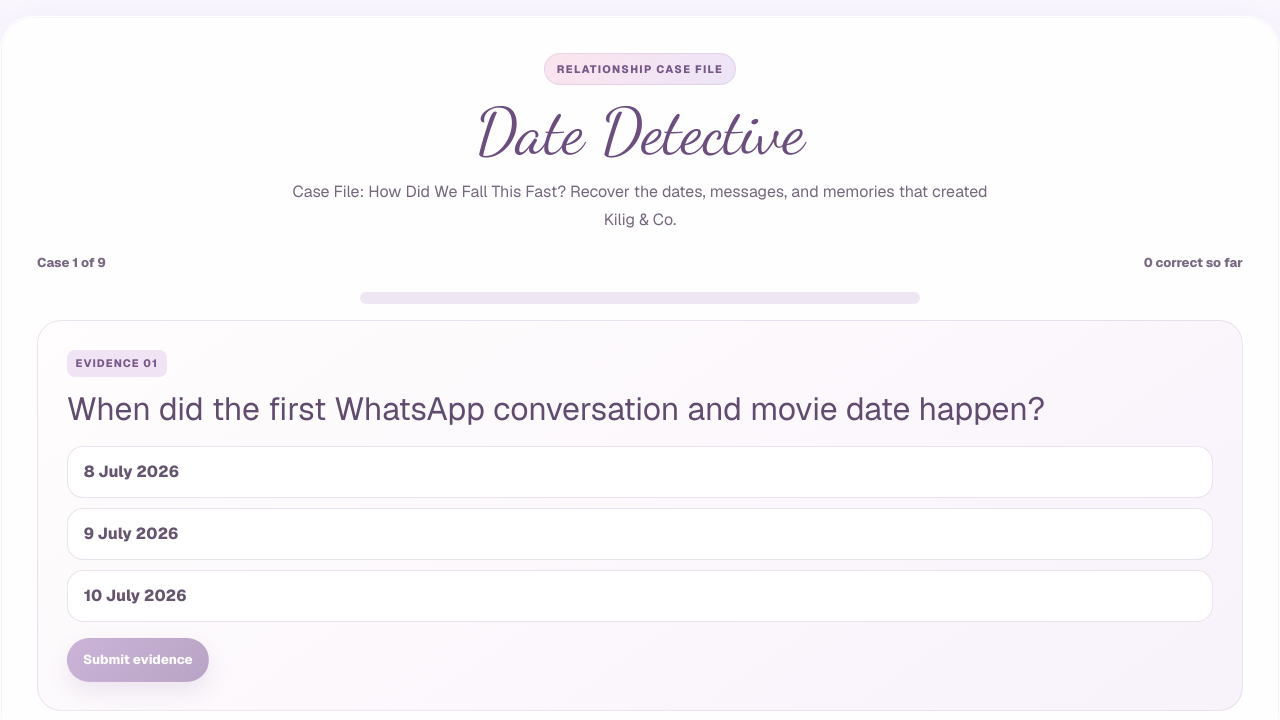
Scenario: critical memory game interactions › locks a submitted Date Detective answer and reveals its memory
Click the radio button labelled "9 July 2026": (131, 533) [67,508,1213,560]
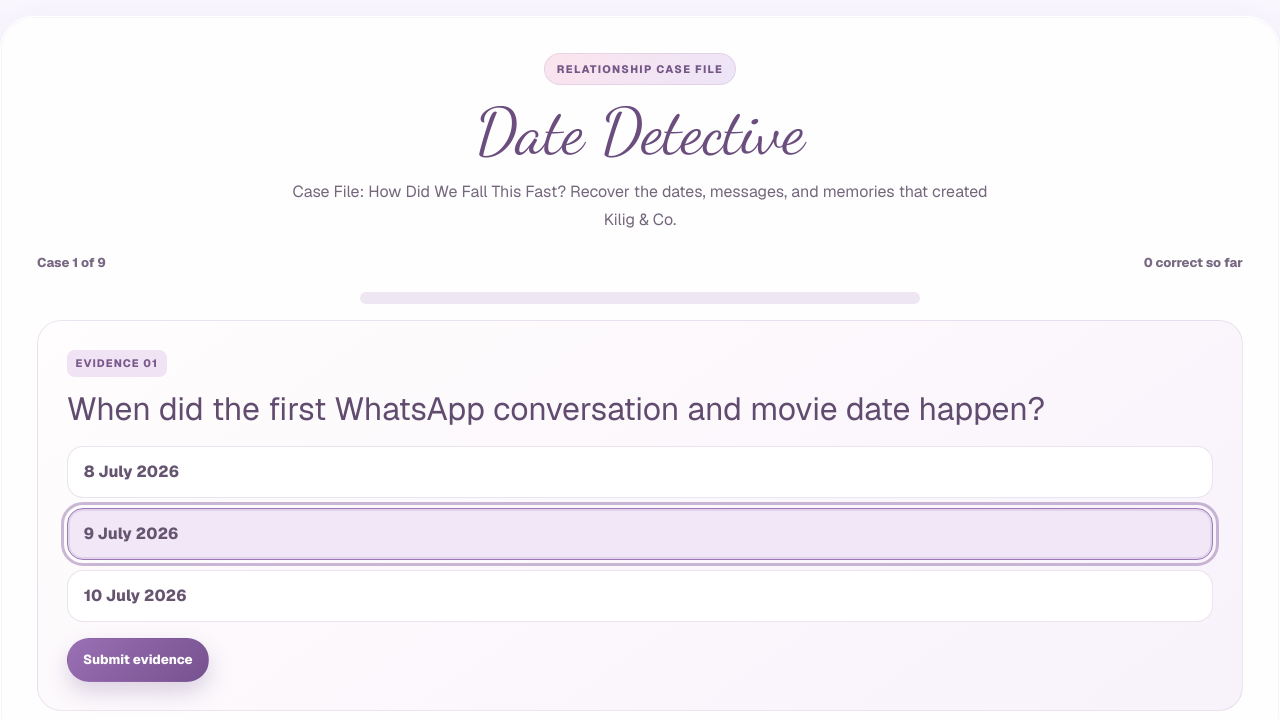
Click the button "Submit evidence": (138, 660) [67,638,209,682]
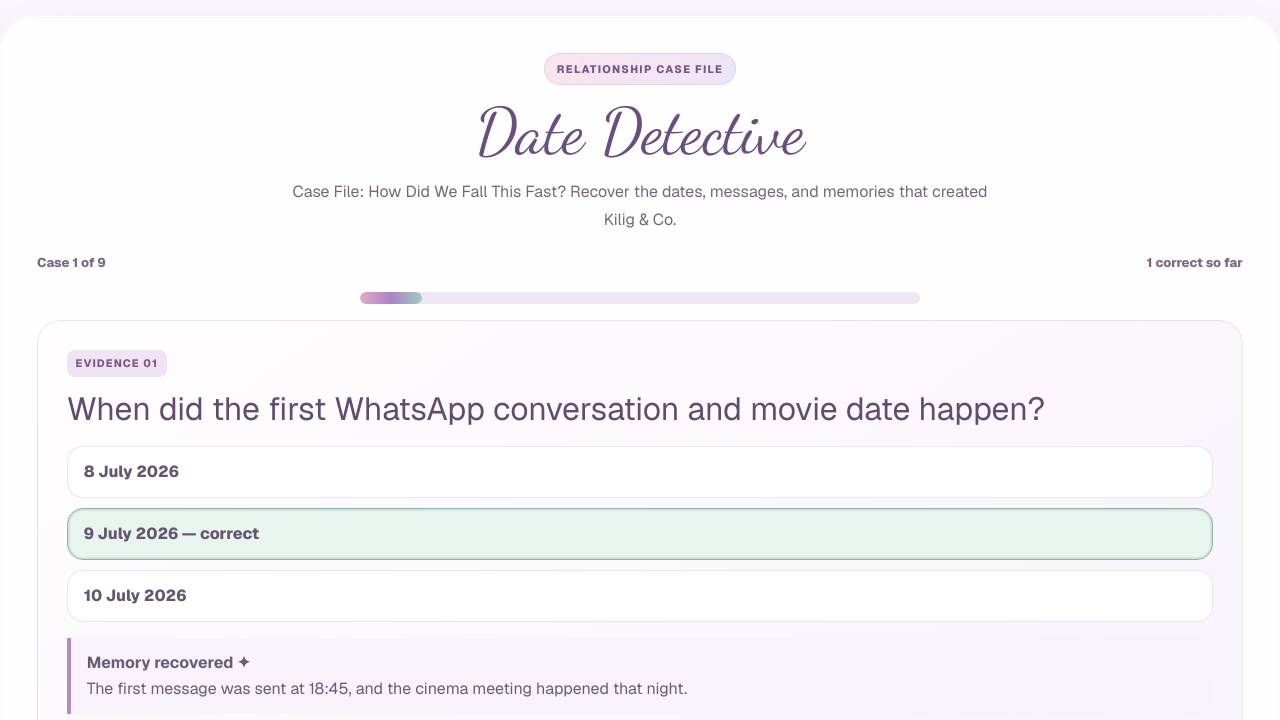
Now the text "Memory recovered ✦" is shown, box [87,652,250,673]
Now the radio button labelled "9 July 2026 — correct" is disabled, box [67,508,1213,560]
